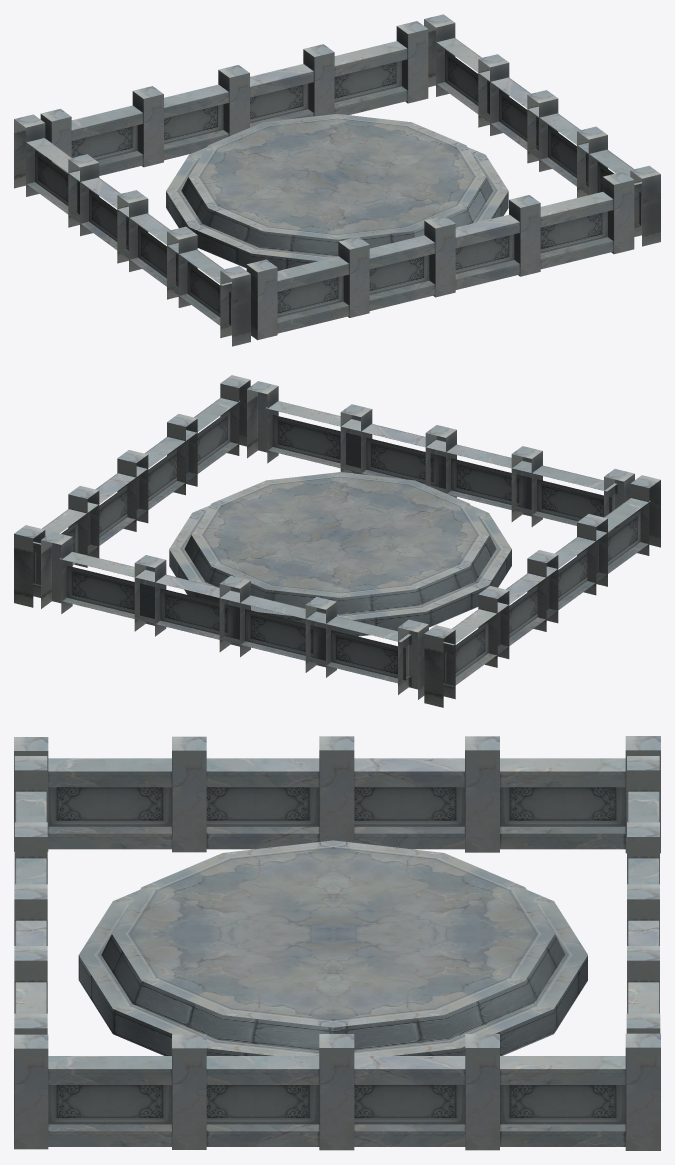
File: 3k_map_statue.FBX
The picture shows the model from 3 angles, top to bottom: view 1: azimuth 30°, elevation 25°; view 2: azimuth 150°, elevation 25°; view 3: azimuth 270°, elevation 25°; orthographic projection. The views are drawn at different scales.
Parts seen in each view (by area): view 1: 3k_map_statue; view 2: 3k_map_statue; view 3: 3k_map_statue.
Part boxes in pixels (x1,y1,x2,y2): 3k_map_statue: [14, 14, 660, 346]; 3k_map_statue: [14, 375, 660, 707]; 3k_map_statue: [14, 736, 660, 1150].
Size of the model in its own units: 1790 by 276 by 1570.
